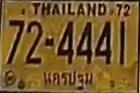1: (119, 20, 124, 64)
2: (26, 21, 43, 65)
4: (57, 20, 73, 63), (94, 20, 110, 63), (76, 20, 92, 62)
7: (7, 19, 24, 63)
NPT: (41, 68, 93, 90)
